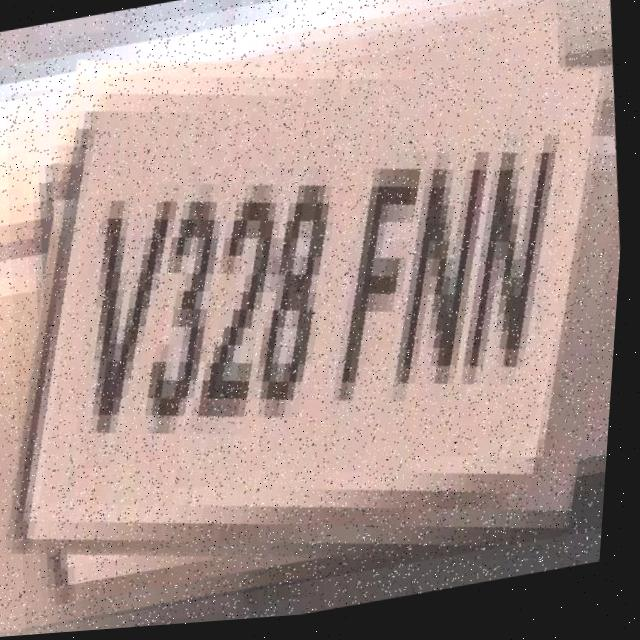LicensePlate: (0, 0, 638, 635)
